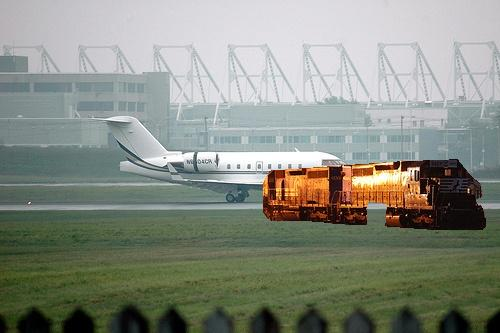tampered: (264, 160, 486, 230)
